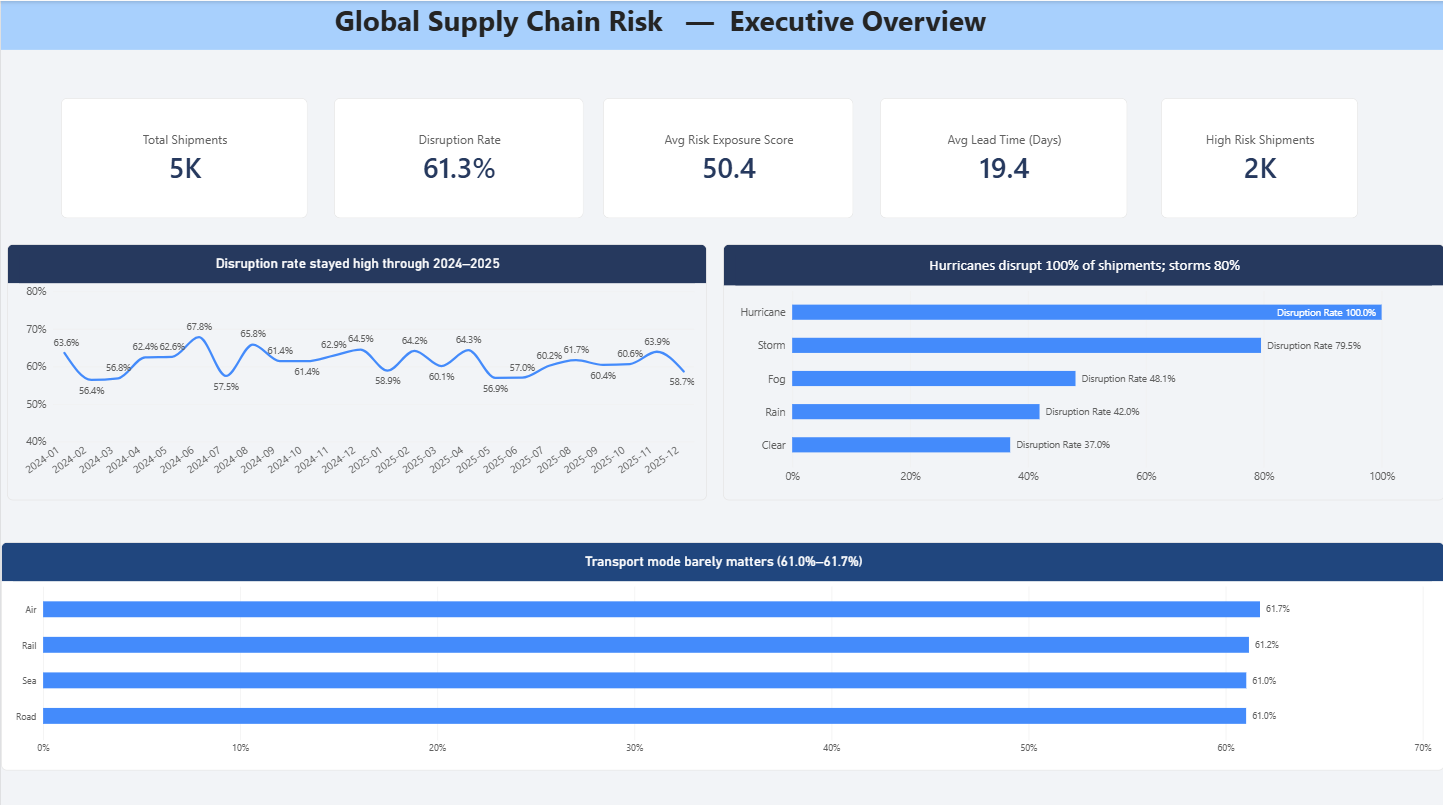

This screenshot's page, from the dashboard's own definition file:
{"tool":"powerbi","page":{"name":"Executive Overview","canvas":[1920,1080],"ordinal":0},"visuals":[{"type":"shape","box":[0,0,1920,65.3],"z":0},{"type":"textbox","box":[8.6,0,1696.5,84.2],"z":1000},{"type":"cardVisual","fields":{"Data":["_Measures.Total Shipments"]},"box":[80.3,129.4,328.2,160.7],"z":2000},{"type":"cardVisual","fields":{"Data":["_Measures.Disruption Rate"]},"box":[442.6,129.4,332.3,160.7],"z":3000},{"type":"cardVisual","fields":{"Data":["_Measures.Avg Risk Exposure Score"]},"box":[800.7,129.4,333.6,160.7],"z":4000},{"type":"cardVisual","fields":{"Data":["_Measures.Avg Lead Time (Days)"]},"box":[1169.7,129.4,329.5,160.7],"z":5000},{"type":"cardVisual","fields":{"Data":["_Measures.High Risk Shipments"]},"box":[1542.8,129.4,262.8,160.7],"z":6000},{"type":"lineChart","title":"Disruption rate stayed high through 2024–2025","fields":{"Category":["Date.YearMonth"],"Y":["_Measures.Disruption Rate"]},"box":[8.2,322.7,931.5,340.7],"z":7000},{"type":"clusteredBarChart","title":"Hurricanes disrupt 100% of shipments; storms 80%","fields":{"Category":["Shipments.Weather_Condition"],"Y":["_Measures.Disruption Rate"]},"box":[960,322.7,960,340.7],"z":8000},{"type":"clusteredBarChart","title":"Transport mode barely matters (61.0%–61.7%)","fields":{"Category":["Shipments.Transport_Mode"],"Y":["_Measures.Disruption Rate"]},"box":[0,719,1920,304.2],"z":9000}]}

Visuals, with their boxes in screenshot pixels (x1, y1, x2, y2), scaled from the page's 1920x1080 canvas onto the 1443x805 screenshot:
shape: 0,0,1442,49
textbox: 6,0,1281,63
cardVisual - _Measures.Total Shipments: 60,96,307,216
cardVisual - _Measures.Disruption Rate: 333,96,582,216
cardVisual - _Measures.Avg Risk Exposure Score: 602,96,852,216
cardVisual - _Measures.Avg Lead Time (Days): 879,96,1127,216
cardVisual - _Measures.High Risk Shipments: 1160,96,1357,216
"Disruption rate stayed high through 2024–2025" lineChart: 6,241,706,494
"Hurricanes disrupt 100% of shipments; storms 80%" clusteredBarChart: 722,241,1442,494
"Transport mode barely matters (61.0%–61.7%)" clusteredBarChart: 0,536,1442,763
